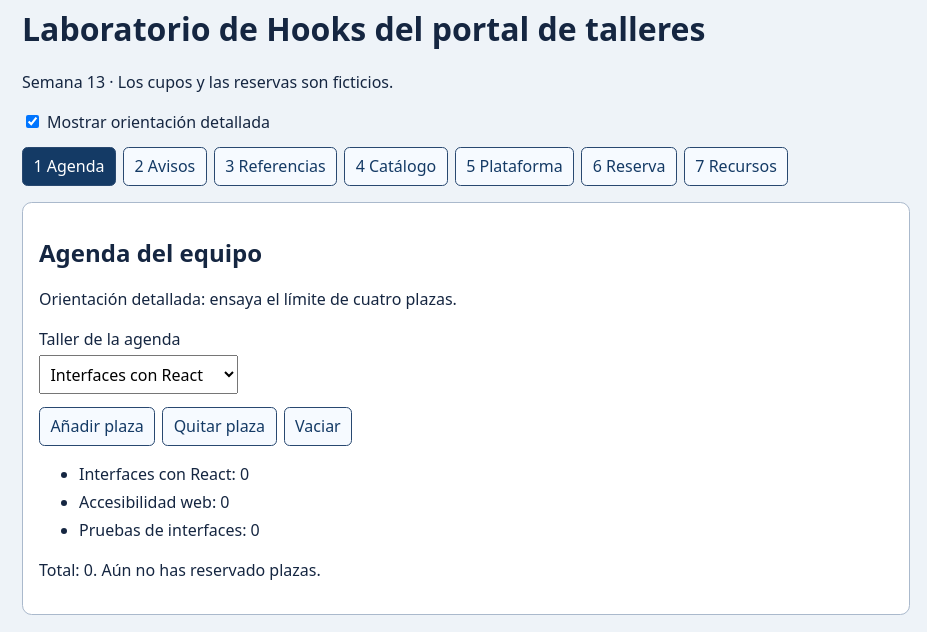
Estado y efectos › comparte la orientación y la conserva al volver a la agenda
What coordinates should you click on to do the following:
click the checkbox labelled "Mostrar orientación detallada"
I would click on:
 (32, 122)
Its box is x1=26 y1=115 x2=39 y2=128.
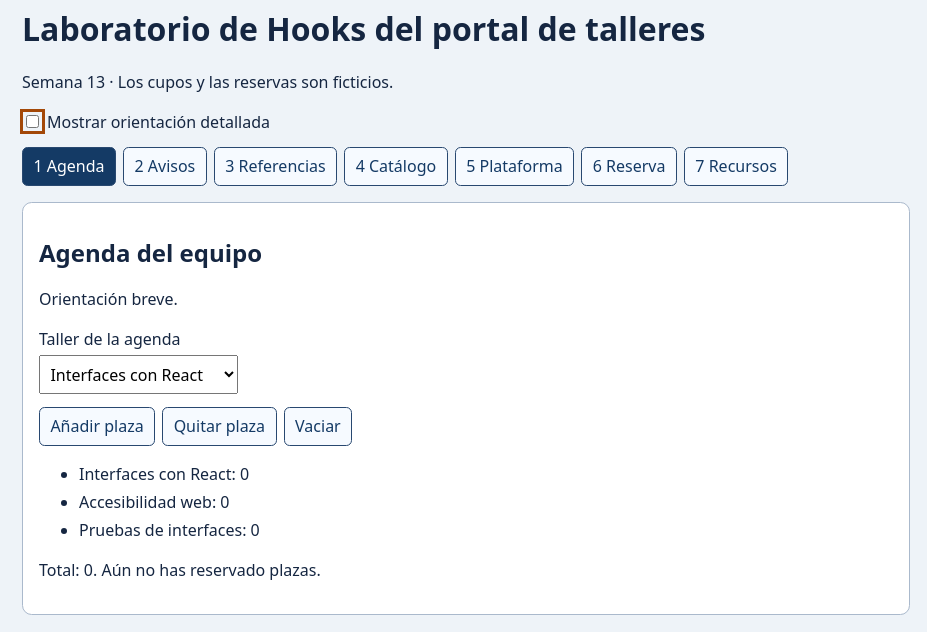
What coordinates should you click on to do the following:
click the button "2 Avisos"
I would click on:
 (165, 166)
Its box is x1=123 y1=147 x2=207 y2=186.
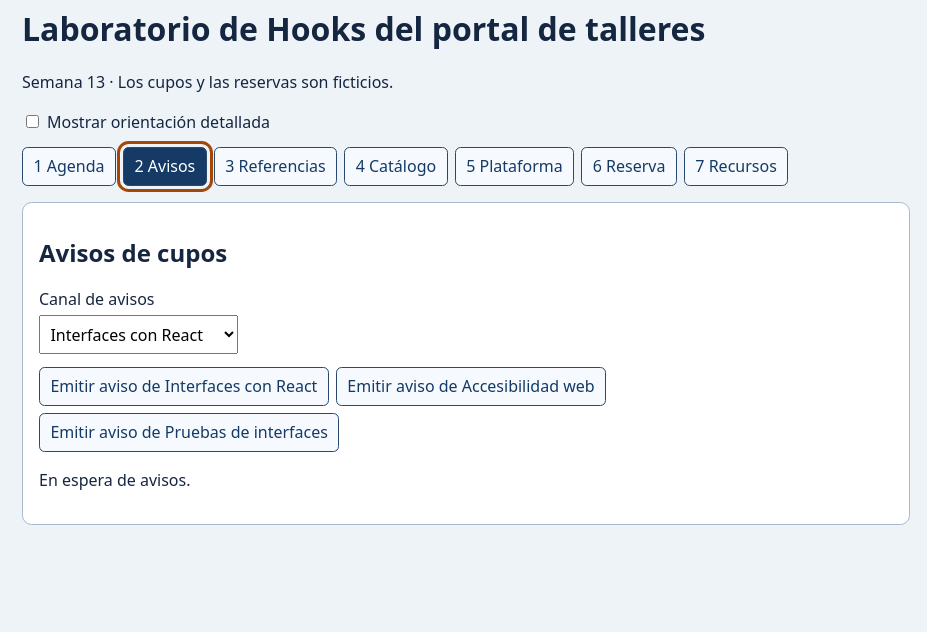
What coordinates should you click on to do the following:
click the button "1 Agenda"
I would click on:
 (69, 166)
Its box is x1=22 y1=147 x2=116 y2=186.
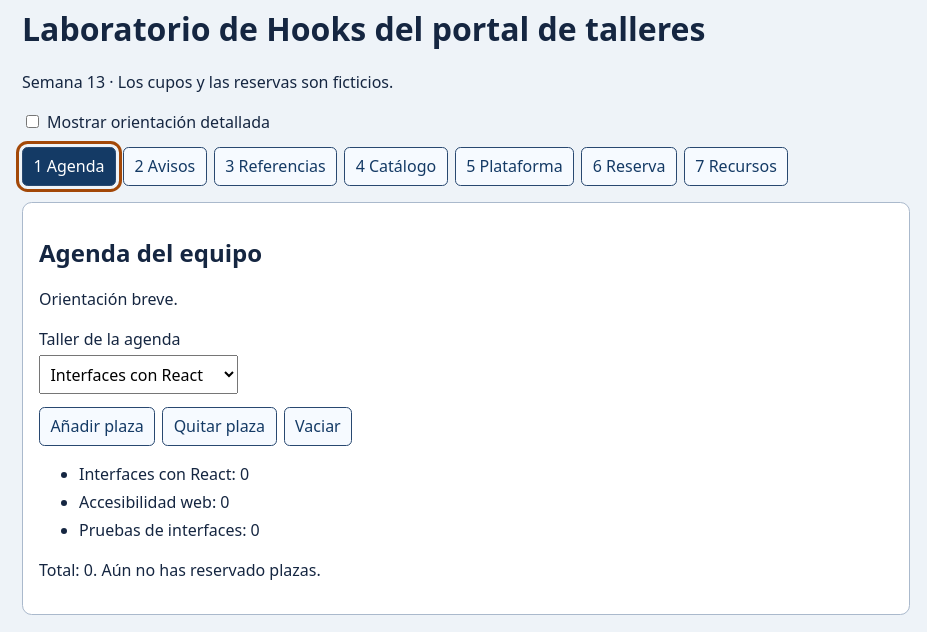
Expected: the text "Orientación breve." is shown, x1=39 y1=288 x2=178 y2=310
